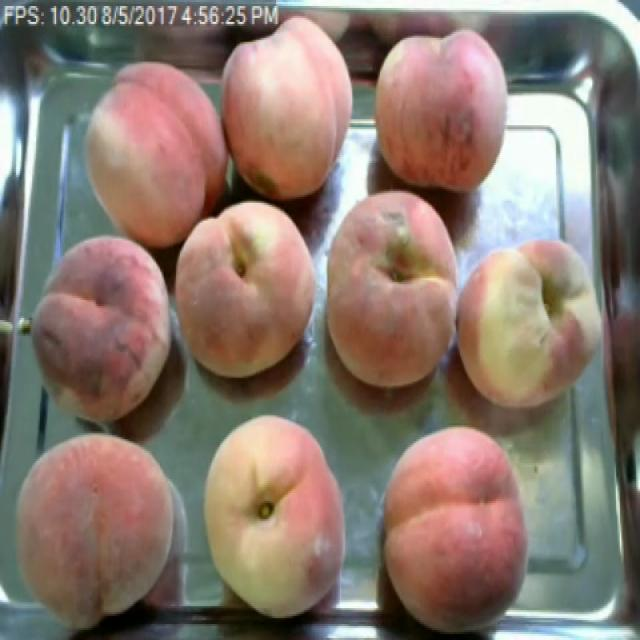Fruit: (1, 411, 200, 640), (177, 398, 363, 632), (367, 415, 544, 640), (16, 221, 188, 447), (314, 177, 462, 403), (170, 189, 330, 397), (452, 224, 616, 423), (75, 52, 229, 258), (366, 16, 522, 207), (217, 12, 363, 211)
